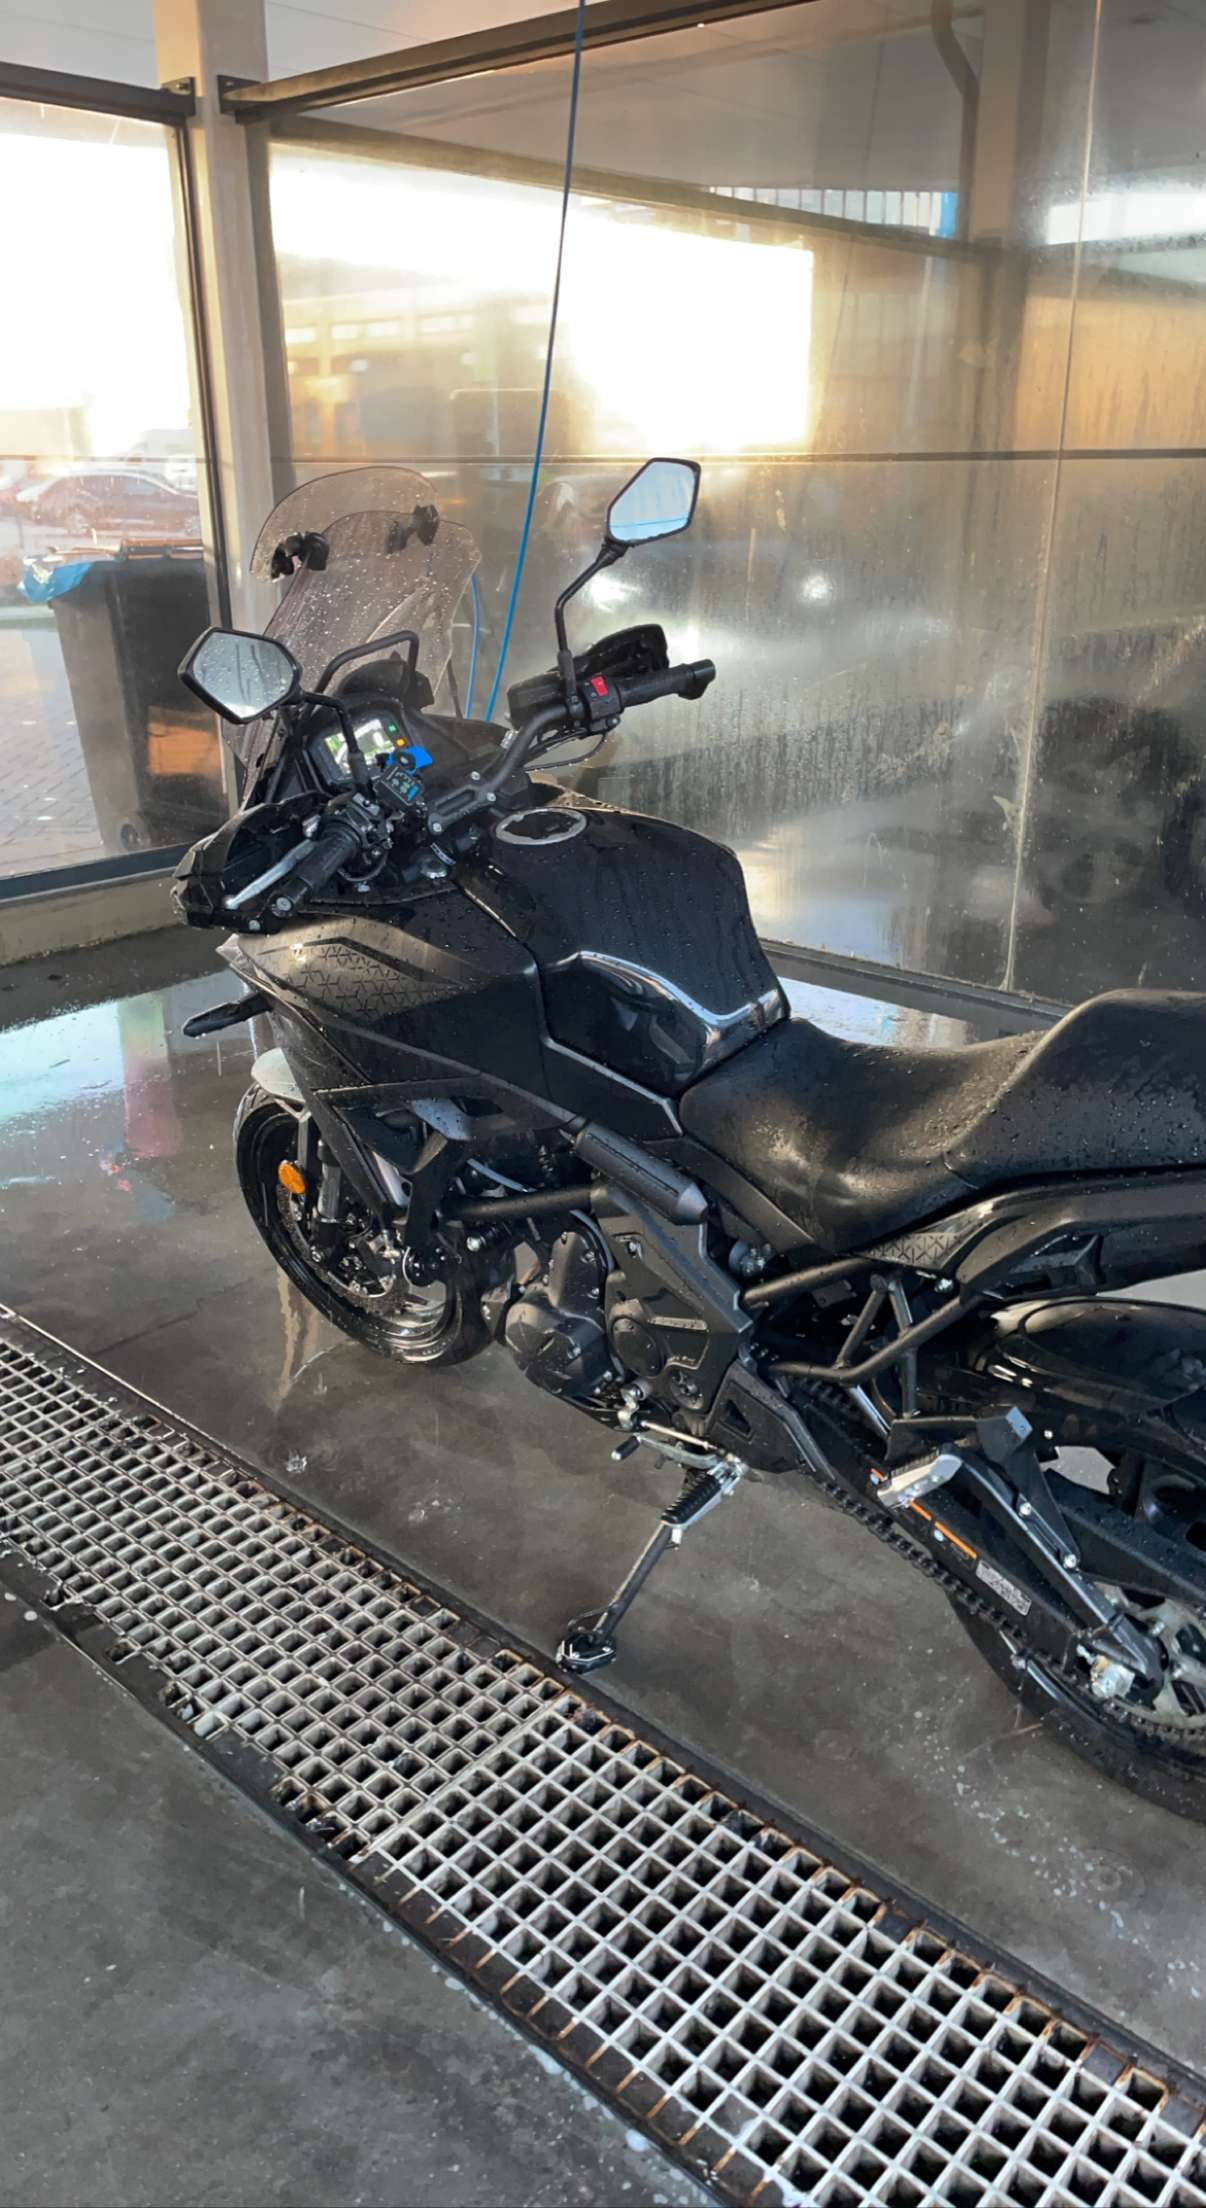motorcycle: (172, 434, 1205, 1823)
